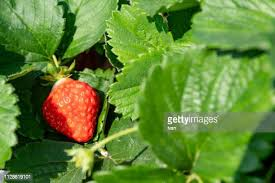ripe: (40, 75, 104, 145)
